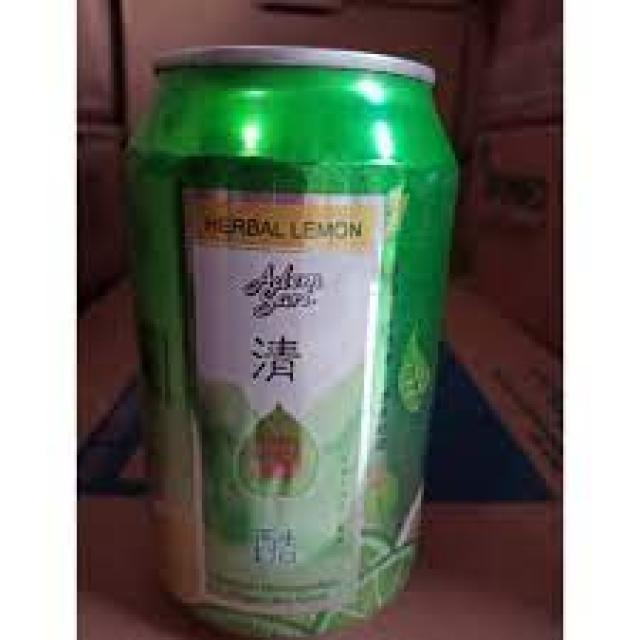ademsarikaleng: (119, 40, 461, 637)
